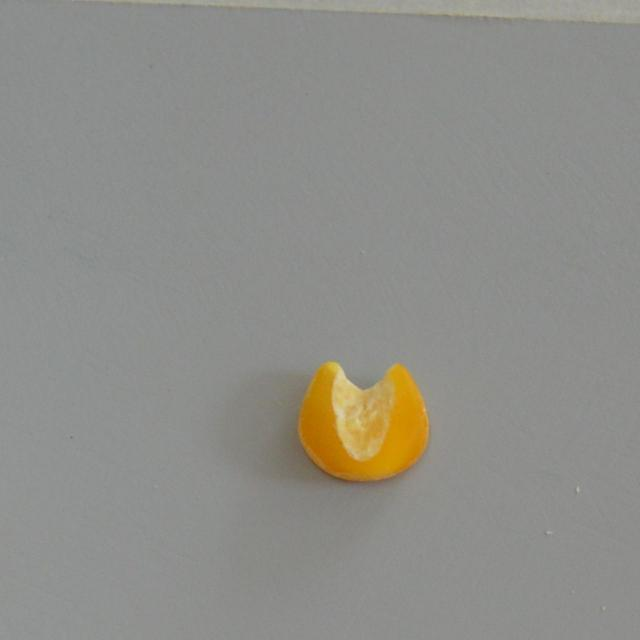pelicula: (292, 358, 430, 482)
